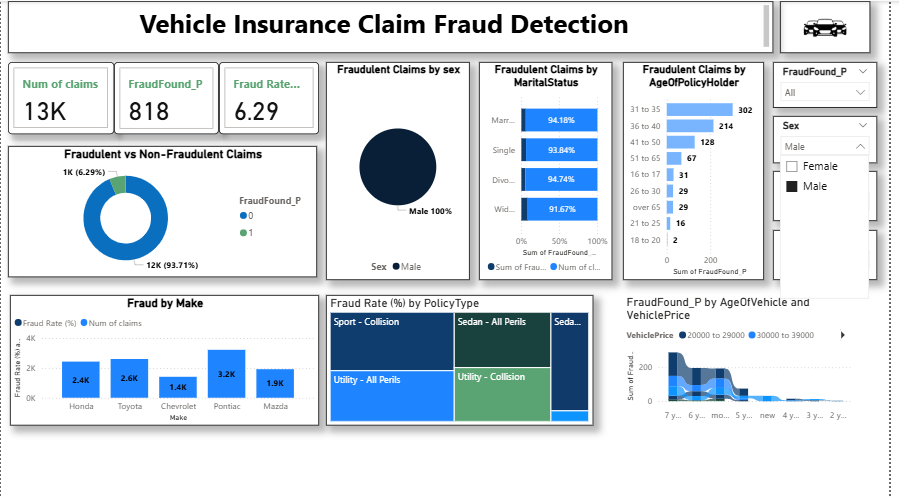

What the dashboard file says about the page in this screenshot:
{"tool":"powerbi","page":{"name":"Page 1","canvas":[1280,720],"ordinal":0},"visuals":[{"type":"textbox","box":[10.1,0,1101.6,74.9],"z":0},{"type":"image","box":[1121.8,0,129.6,74.9],"z":1000},{"type":"cardVisual","fields":{"Data":["fraud_oracle.Num of claims"]},"box":[10.1,87.8,152.6,103.7],"z":2000},{"type":"cardVisual","fields":{"Data":["Sum(fraud_oracle.FraudFound_P)"]},"box":[162.9,87.3,151.2,104.1],"z":3000},{"type":"cardVisual","fields":{"Data":["fraud_oracle.Fraud Rate (%)"]},"box":[313.9,87.8,144,103.7],"z":4000},{"type":"donutChart","title":"Fraudulent vs Non-Fraudulent Claims ","fields":{"Category":["fraud_oracle.FraudFound_P"],"Y":["fraud_oracle.Num of claims"]},"box":[10.1,208.8,445,188.6],"z":5000},{"type":"pieChart","title":"Fraudulent Claims by sex","fields":{"Category":["fraud_oracle.Sex"],"Y":["Sum(fraud_oracle.FraudFound_P)"]},"box":[468,87.8,207.4,313.9],"z":6000},{"type":"hundredPercentStackedBarChart","title":"Fraudulent Claims by MaritalStatus","fields":{"Category":["fraud_oracle.MaritalStatus"],"Y":["Sum(fraud_oracle.FraudFound_P)","fraud_oracle.Num of claims"]},"box":[688.3,87.8,191.5,313.9],"z":7000},{"type":"clusteredBarChart","title":"Fraudulent Claims by  AgeOfPolicyHolder","fields":{"Category":["fraud_oracle.AgeOfPolicyHolder"],"Y":["Sum(fraud_oracle.FraudFound_P)"]},"box":[895.7,87.8,203,313.9],"z":8000},{"type":"slicer","fields":{"Values":["fraud_oracle.FraudFound_P"]},"box":[1111.7,87.8,149.8,66.2],"z":9000},{"type":"slicer","fields":{"Values":["fraud_oracle.Sex"]},"box":[1111.7,165.6,149.8,67.7],"z":10000},{"type":"slicer","fields":{"Values":["fraud_oracle.MaritalStatus"]},"box":[1111.7,244.8,149.8,72],"z":11000},{"type":"slicer","fields":{"Values":["fraud_oracle.AgeOfPolicyHolder"]},"box":[1111.7,329.8,149.8,72],"z":12000},{"type":"columnChart","title":"Fraud by Make","fields":{"Category":["fraud_oracle.Make"],"Y":["fraud_oracle.Fraud Rate (%)","fraud_oracle.Num of claims"]},"box":[13.4,423.3,445.1,188.1],"z":13000},{"type":"treemap","fields":{"Group":["fraud_oracle.PolicyType"],"Values":["fraud_oracle.Fraud Rate (%)"]},"box":[468.7,423.3,384.7,188.1],"z":13001},{"type":"ribbonChart","title":" FraudFound_P by AgeOfVehicle and VehiclePrice","fields":{"Category":["fraud_oracle.AgeOfVehicle"],"Y":["Sum(fraud_oracle.FraudFound_P)"],"Series":["fraud_oracle.VehiclePrice"]},"box":[895.3,423.3,336,188.1],"z":13002}]}

Visuals, with their boxes in screenshot pixels (x1, y1, x2, y2), scaled from the page's 1280x720 canvas onto the 899x496 screenshot:
textbox: (7, 0, 781, 52)
image: (788, 0, 879, 52)
cardVisual - fraud_oracle.Num of claims: (7, 60, 114, 132)
cardVisual - Sum(fraud_oracle.FraudFound_P): (114, 60, 221, 132)
cardVisual - fraud_oracle.Fraud Rate (%): (220, 60, 322, 132)
"Fraudulent vs Non-Fraudulent Claims " donutChart: (7, 144, 320, 274)
"Fraudulent Claims by sex" pieChart: (329, 60, 474, 277)
"Fraudulent Claims by MaritalStatus" hundredPercentStackedBarChart: (483, 60, 618, 277)
"Fraudulent Claims by  AgeOfPolicyHolder" clusteredBarChart: (629, 60, 772, 277)
slicer - fraud_oracle.FraudFound_P: (781, 60, 886, 106)
slicer - fraud_oracle.Sex: (781, 114, 886, 161)
slicer - fraud_oracle.MaritalStatus: (781, 169, 886, 218)
slicer - fraud_oracle.AgeOfPolicyHolder: (781, 227, 886, 277)
"Fraud by Make" columnChart: (9, 292, 322, 421)
treemap - fraud_oracle.PolicyType x fraud_oracle.Fraud Rate (%): (329, 292, 599, 421)
" FraudFound_P by AgeOfVehicle and VehiclePrice" ribbonChart: (629, 292, 865, 421)
